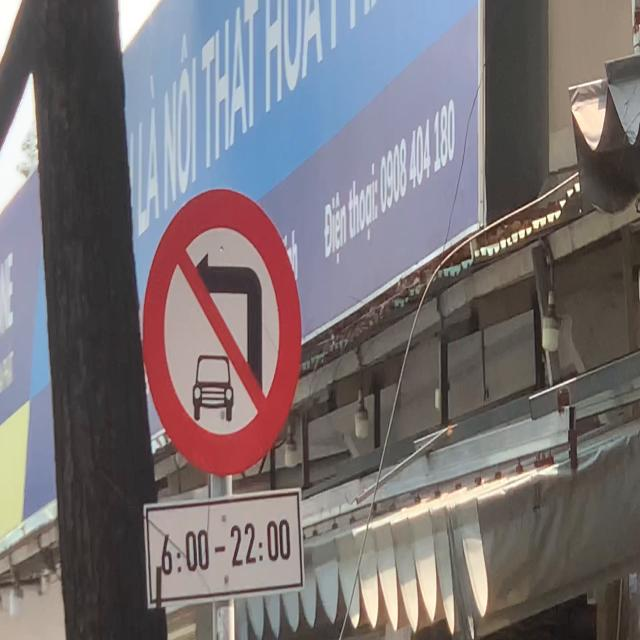Cam re trai: (142, 188, 302, 478)
